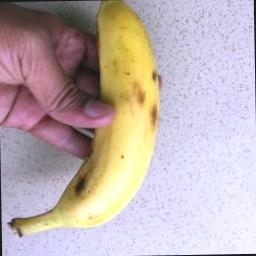Banana Ripe: (17, 0, 187, 247)
